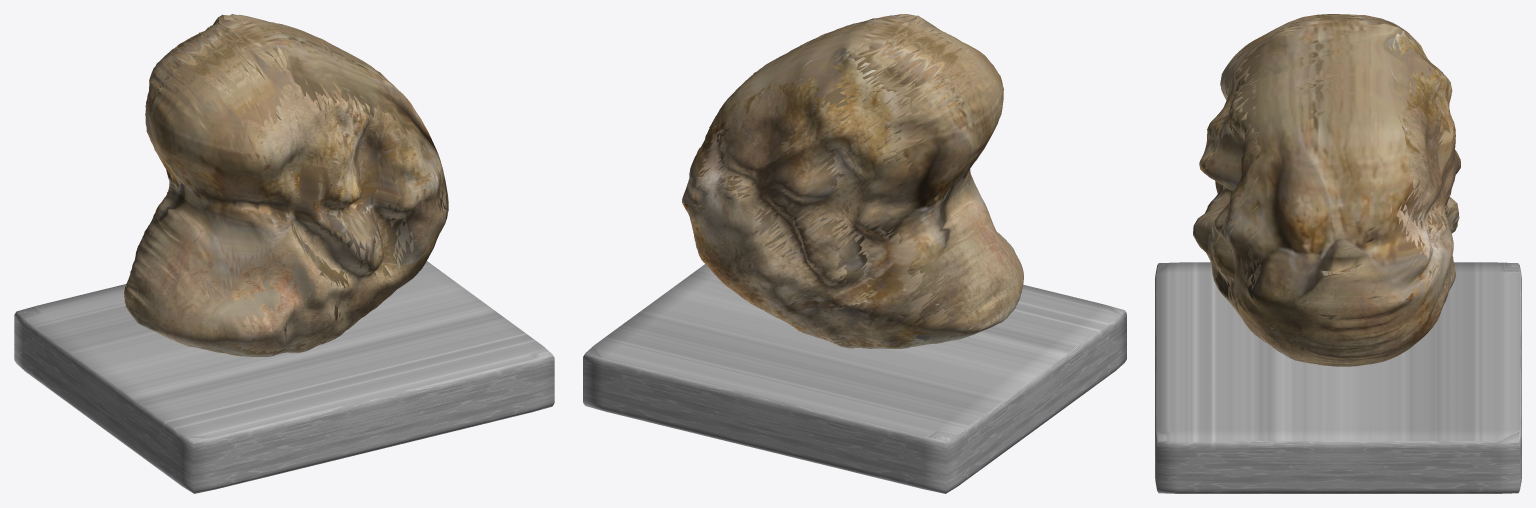
The model's file is hy3d-esc-015.glb.
The picture shows the model from 3 angles, left to right: view 1: azimuth 30°, elevation 25°; view 2: azimuth 150°, elevation 25°; view 3: azimuth 270°, elevation 25°; orthographic projection.
Parts seen in each view (by area): view 1: world; view 2: world; view 3: world.
Boxes of the visible parts, box(x1,y1,x2,y2) form: world: box(14, 14, 554, 493); world: box(583, 14, 1126, 493); world: box(1155, 14, 1521, 493).
Bounding box in the file's own units: 0.2321 × 0.2185 × 0.1996.
Materials: 1 (1 with a texture image).
